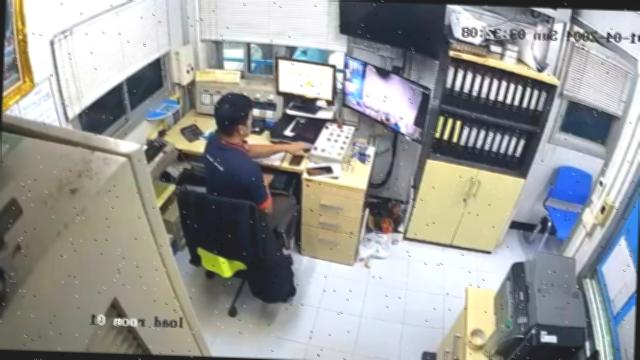Head: (213, 93, 254, 136)
People: (204, 94, 308, 231)
Phone: (305, 165, 334, 175), (287, 155, 304, 165)
